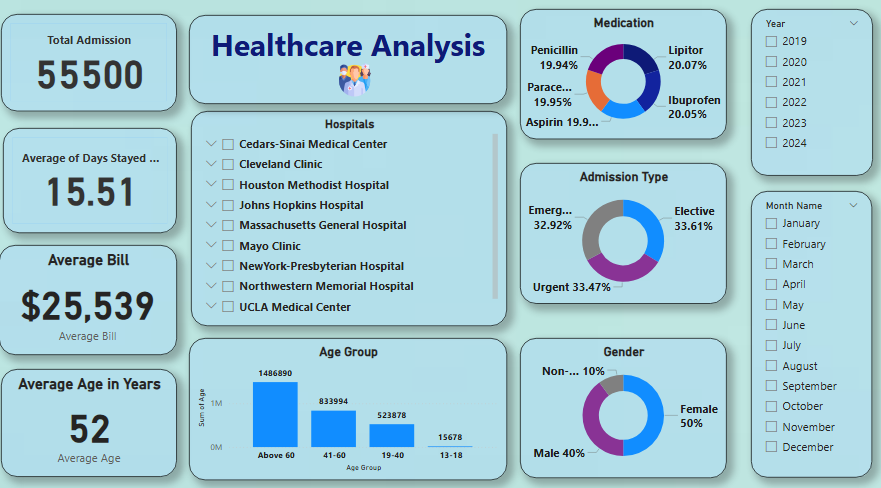

The dashboard page shown, as its layout file describes it:
{"tool":"powerbi","page":{"name":"Page 1","canvas":[1280,720],"ordinal":0},"visuals":[{"type":"donutChart","title":"Gender","fields":{"Category":["Data.Gender"],"Y":["CountNonNull(Data.Admission Type)"]},"box":[748.3,491.8,294.8,199.8],"z":0},{"type":"donutChart","title":"Admission Type","fields":{"Category":["Data.Admission Type"],"Y":["CountNonNull(Data.Patient ID)"]},"box":[748.3,242.4,294.8,201.3],"z":1000},{"type":"cardVisual","fields":{"Data":["Avg(Data.Hospital Stay)"]},"box":[9.9,192.8,248,150.2],"z":2000},{"type":"cardVisual","fields":{"Data":["Data.Total Admission"]},"box":[7.1,29.8,250.9,138.9],"z":3000},{"type":"card","title":"Average Bill","fields":{"Values":["Data.Average Bill"]},"box":[4.3,360,253.7,157.3],"z":4000},{"type":"slicer","title":"Hospitals","fields":{"Values":["Data.Hospital","Data.Patient ID"]},"box":[278.3,168.4,450.9,306.8],"z":5000},{"type":"card","title":"Average Age in Years","fields":{"Values":["Data.Average Age"]},"box":[7.1,537.2,250.9,154.5],"z":6000},{"type":"textbox","box":[275.4,31.4,453.8,127],"z":7000},{"type":"donutChart","title":"Medication","fields":{"Category":["Data.Medication"],"Y":["CountNonNull(Data.Patient ID)"]},"box":[748.3,22.7,294.8,185.7],"z":8000},{"type":"clusteredColumnChart","title":"Age Group","fields":{"Y":["Sum(Data.Age)"],"Category":["Data.Age Group"]},"box":[275,491.8,453.5,202.7],"z":9000},{"type":"slicer","fields":{"Values":["Calender Table.Year"]},"box":[1077.4,22.8,174.1,238.3],"z":10000},{"type":"slicer","fields":{"Values":["Calender Table.Month Name"]},"box":[1078,282.5,173.4,409.4],"z":11000},{"type":"image","box":[469.5,95.6,85.6,57.1],"z":12000}]}

Visuals, with their boxes in screenshot pixels (x1, y1, x2, y2), scaled from the page's 1280x720 canvas onto the 881x488 screenshot:
"Gender" donutChart: bbox=(515, 333, 718, 469)
"Admission Type" donutChart: bbox=(515, 164, 718, 301)
cardVisual - Avg(Data.Hospital Stay): bbox=(7, 131, 178, 232)
cardVisual - Data.Total Admission: bbox=(5, 20, 178, 114)
"Average Bill" card: bbox=(3, 244, 178, 351)
"Hospitals" slicer: bbox=(192, 114, 502, 322)
"Average Age in Years" card: bbox=(5, 364, 178, 469)
textbox: bbox=(190, 21, 502, 107)
"Medication" donutChart: bbox=(515, 15, 718, 141)
"Age Group" clusteredColumnChart: bbox=(189, 333, 501, 471)
slicer - Calender Table.Year: bbox=(742, 15, 861, 177)
slicer - Calender Table.Month Name: bbox=(742, 191, 861, 469)
image: bbox=(323, 65, 382, 103)
